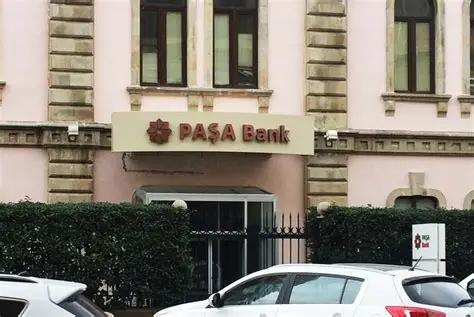Pasha Bank: (143, 117, 175, 144)
